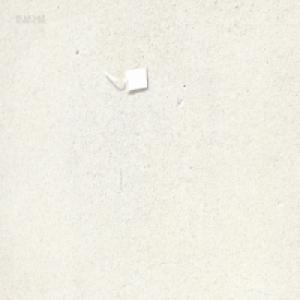LuggageTag: (100, 63, 150, 94)
